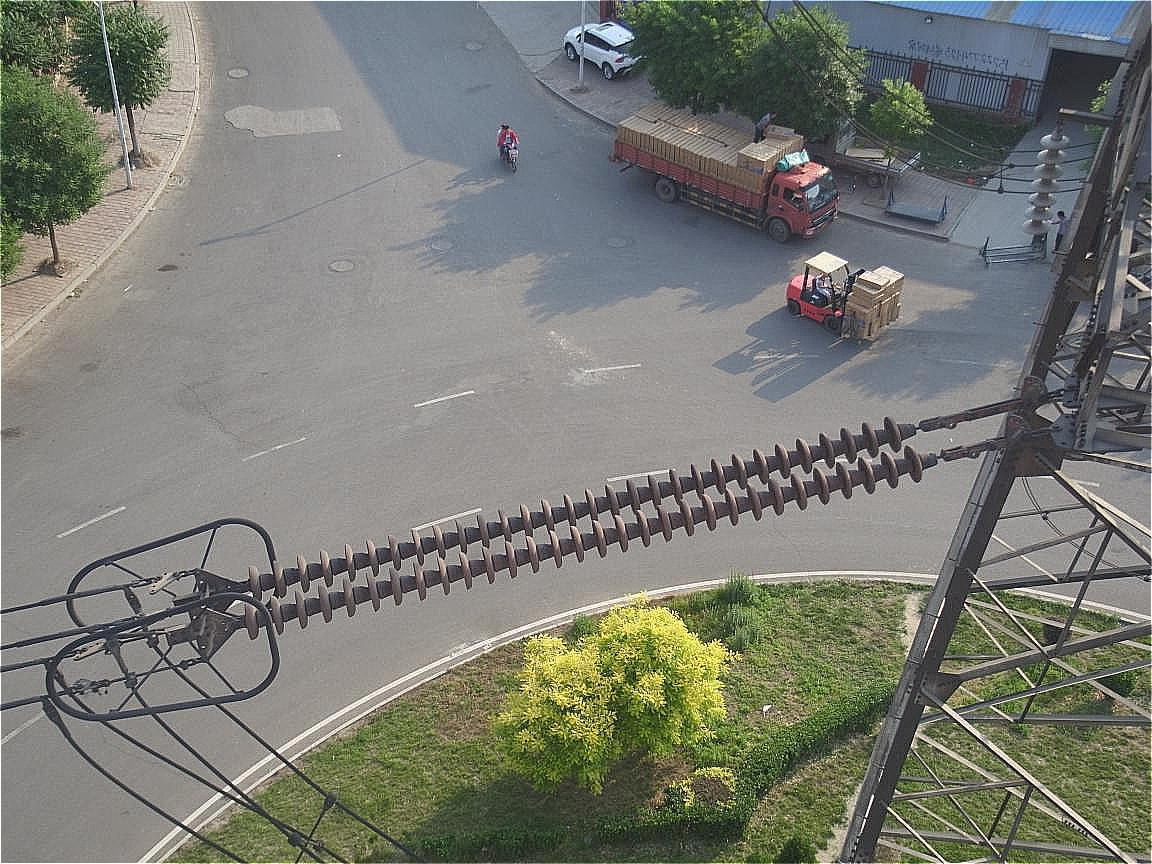insultor1: (197, 412, 934, 638)
